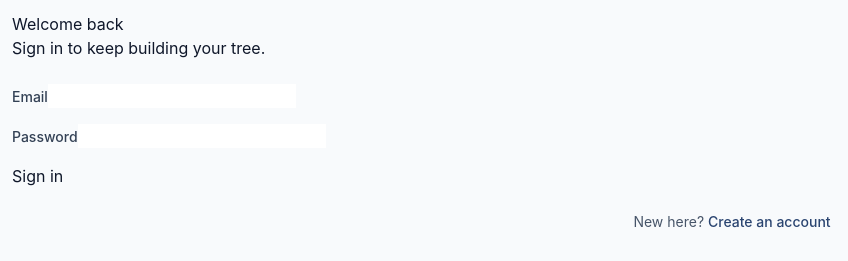
Test: LoginPage › shows server-side validation errors from a 422
The width and height of the screenshot is (848, 261).
Type "wrong@example.test" into the field labelled "Email".
click(172, 96); type("wrong@example.test")  # box [48,84,296,108]
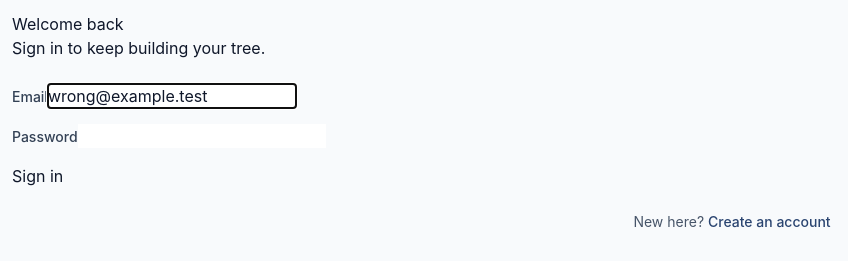
Type "badpass" into the password field labelled "Password".
click(202, 136); type("badpass")  # box [78,124,326,148]
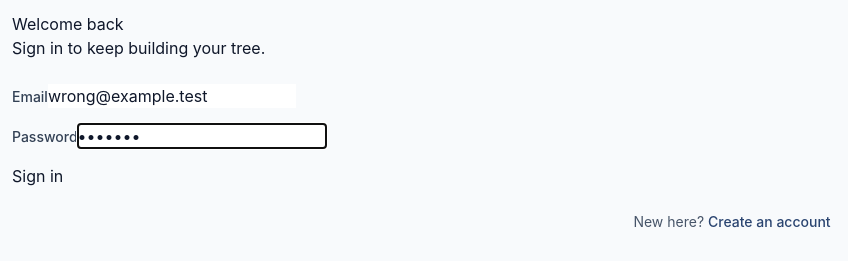
Click the button "Sign in".
click(38, 176)  # box [12,164,63,188]
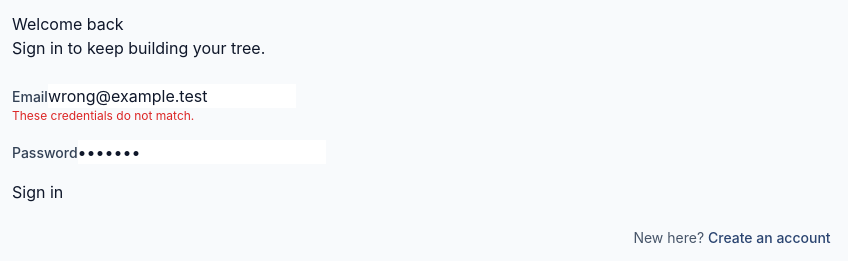
Expected: the text "These credentials do not match." is shown, [12,108,194,123]
